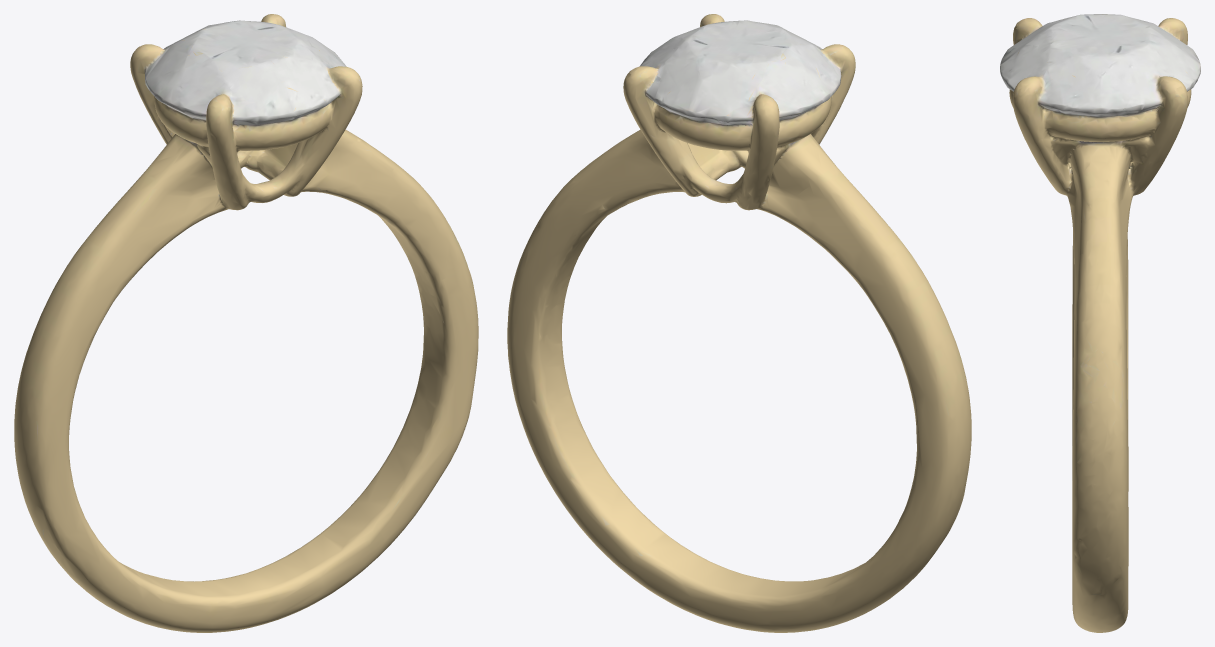
The model's file is ring.glb.
3 views of the same model, side by side, from view 1: azimuth 30°, elevation 25°; view 2: azimuth 150°, elevation 25°; view 3: azimuth 270°, elevation 25° (orthographic).
Parts seen in each view (by area): view 1: Mesh_0; view 2: Mesh_0; view 3: Mesh_0.
Part boxes in pixels (left/top/right/bottom): Mesh_0: left=14, top=14, right=478, bottom=632; Mesh_0: left=507, top=14, right=971, bottom=632; Mesh_0: left=1000, top=14, right=1200, bottom=632.
Bounding box in the file's own units: 1.56 × 1.91 × 0.6061.
Materials: 1 (1 with a texture image).
